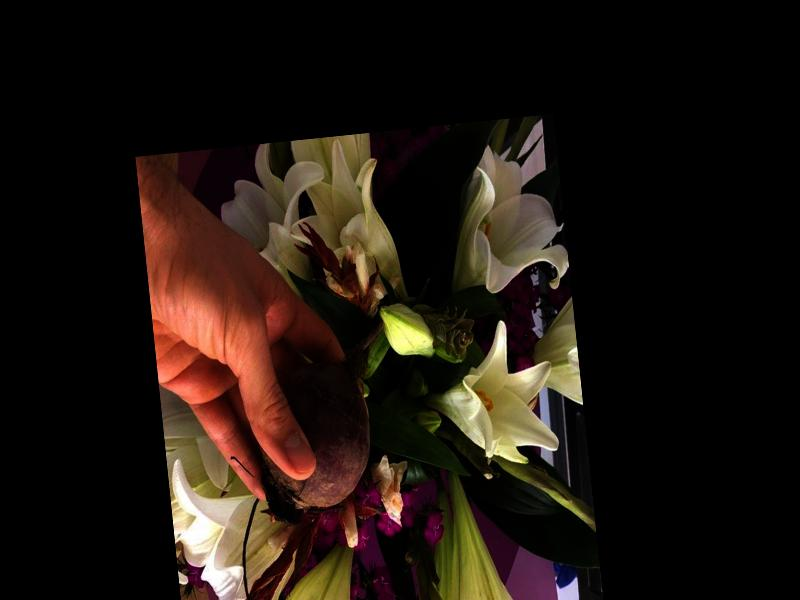Beet: (246, 315, 404, 527)
